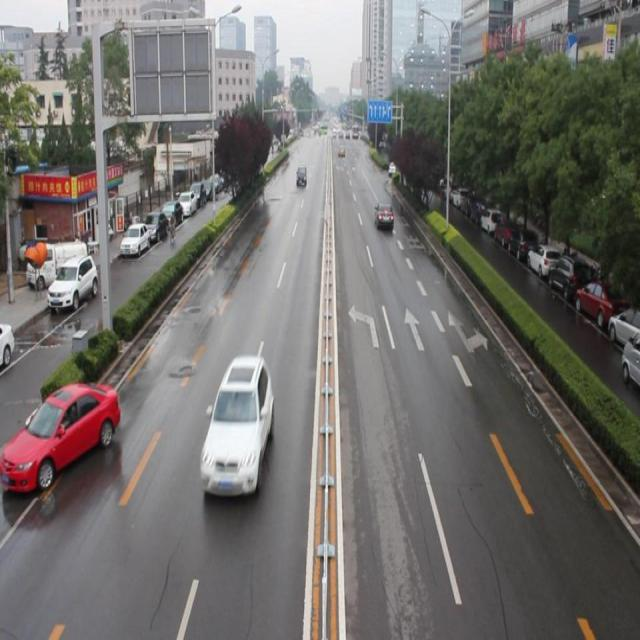car: (1, 378, 122, 491), (198, 350, 274, 497), (374, 200, 394, 228), (387, 161, 398, 177)
truck: (294, 164, 307, 188)
